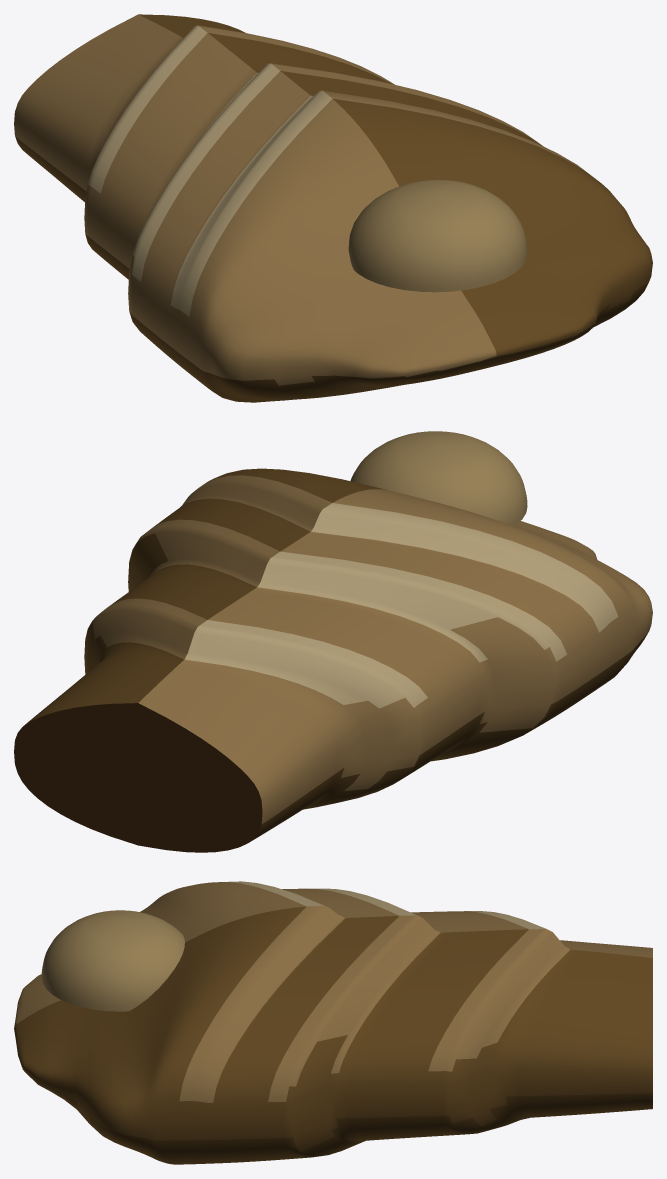
File: gyges_worm_head_base.glb
3 renders of one model, top to bottom at view 1: azimuth 30°, elevation 25°; view 2: azimuth 150°, elevation 25°; view 3: azimuth 270°, elevation 25°, orthographic. The views are drawn at different scales.
Parts seen in each view (by area): view 1: gyges_worm_head_base; view 2: gyges_worm_head_base; view 3: gyges_worm_head_base.
Boxes of the visible parts, <box> form: gyges_worm_head_base: <box>14,14,652,402</box>; gyges_worm_head_base: <box>14,431,652,852</box>; gyges_worm_head_base: <box>14,881,652,1164</box>.
Size of the model in its own units: 18.9 by 9.65 by 27.12.
